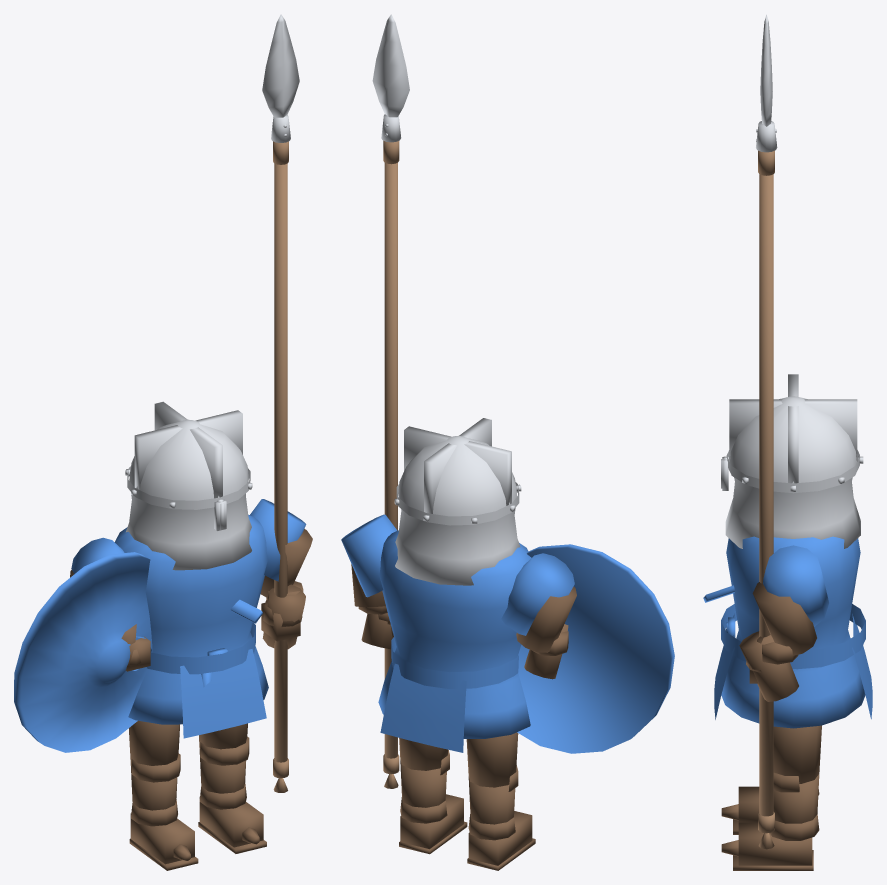
The model's file is SM_Spearman.fbx.
3 renders of one model, left to right at view 1: azimuth 30°, elevation 25°; view 2: azimuth 150°, elevation 25°; view 3: azimuth 270°, elevation 25°, orthographic. The views are drawn at different scales.
Parts seen in each view (by area): view 1: Body_Team, RoundShield, Limbs_Boots, Helmet, Cylinder, Speartip; view 2: Body_Team, RoundShield, Limbs_Boots, Helmet, Cylinder, Speartip; view 3: Body_Team, Helmet, Limbs_Boots, Cylinder, Speartip.
Part boxes in pixels (x1,y1,x2,y2): Body_Team: (71, 499, 306, 738); RoundShield: (14, 552, 152, 752); Limbs_Boots: (70, 529, 312, 870); Helmet: (125, 401, 252, 570); Cylinder: (273, 141, 288, 792); Speartip: (262, 14, 299, 142); Body_Team: (341, 514, 574, 752); RoundShield: (517, 544, 674, 753); Limbs_Boots: (351, 564, 576, 870); Helmet: (394, 418, 521, 585); Cylinder: (383, 141, 399, 788); Speartip: (372, 14, 409, 142); Body_Team: (703, 536, 872, 728); Helmet: (721, 374, 863, 548); Limbs_Boots: (721, 582, 821, 870); Cylinder: (758, 150, 774, 849); Speartip: (756, 14, 777, 152).
Bounding box in the file's own units: 0.8515 × 2.15 × 0.3783.
